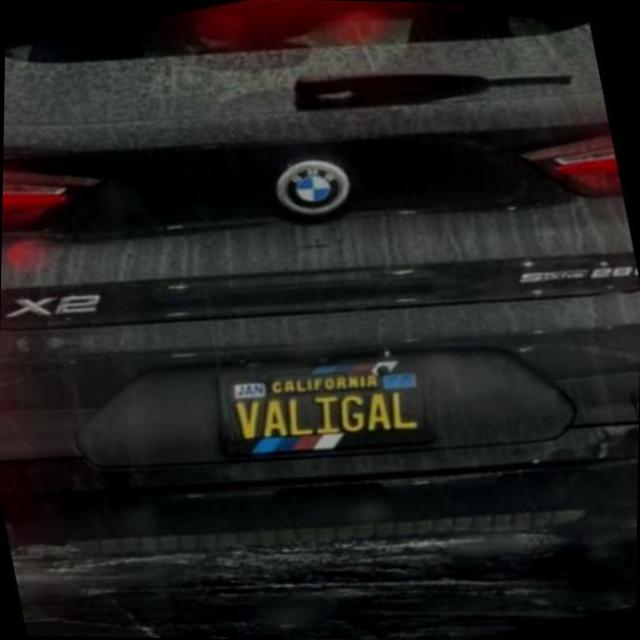LicensePlate: (214, 355, 436, 455)
